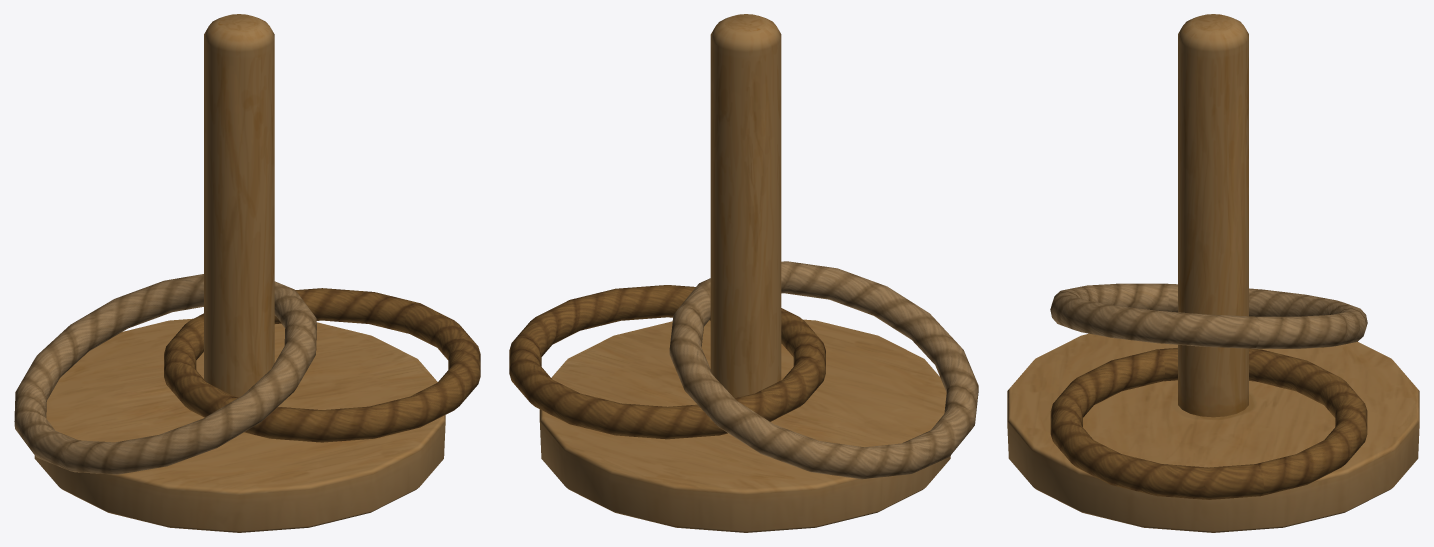
File: ThrowingRings_Basic_Scaled.fbx
3 views of the same model, side by side, from view 1: azimuth 30°, elevation 25°; view 2: azimuth 150°, elevation 25°; view 3: azimuth 270°, elevation 25° (orthographic).
Parts seen in each view (by area): view 1: ThrowingRing_Body, ThrowingRing_Ring2, ThrowingRing_Ring; view 2: ThrowingRing_Body, ThrowingRing_Ring2, ThrowingRing_Ring; view 3: ThrowingRing_Body, ThrowingRing_Ring, ThrowingRing_Ring2.
Boxes of the visible parts, x1,y1,x2,y2 form: ThrowingRing_Body: (34, 14, 445, 532); ThrowingRing_Ring2: (14, 274, 316, 474); ThrowingRing_Ring: (164, 288, 480, 442); ThrowingRing_Body: (539, 14, 950, 532); ThrowingRing_Ring2: (669, 261, 978, 479); ThrowingRing_Ring: (509, 285, 825, 439); ThrowingRing_Body: (1007, 14, 1419, 532); ThrowingRing_Ring: (1050, 348, 1367, 499); ThrowingRing_Ring2: (1050, 283, 1367, 348).
Size of the model in its own units: 30.18 by 28.58 by 25.22.
